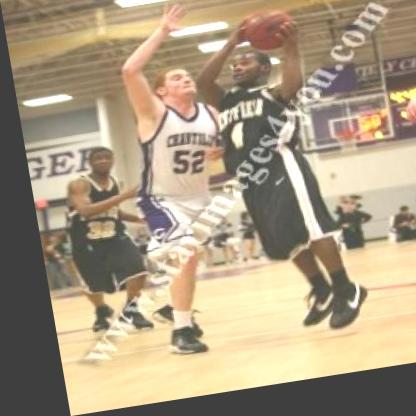basketball: (231, 9, 298, 69)
